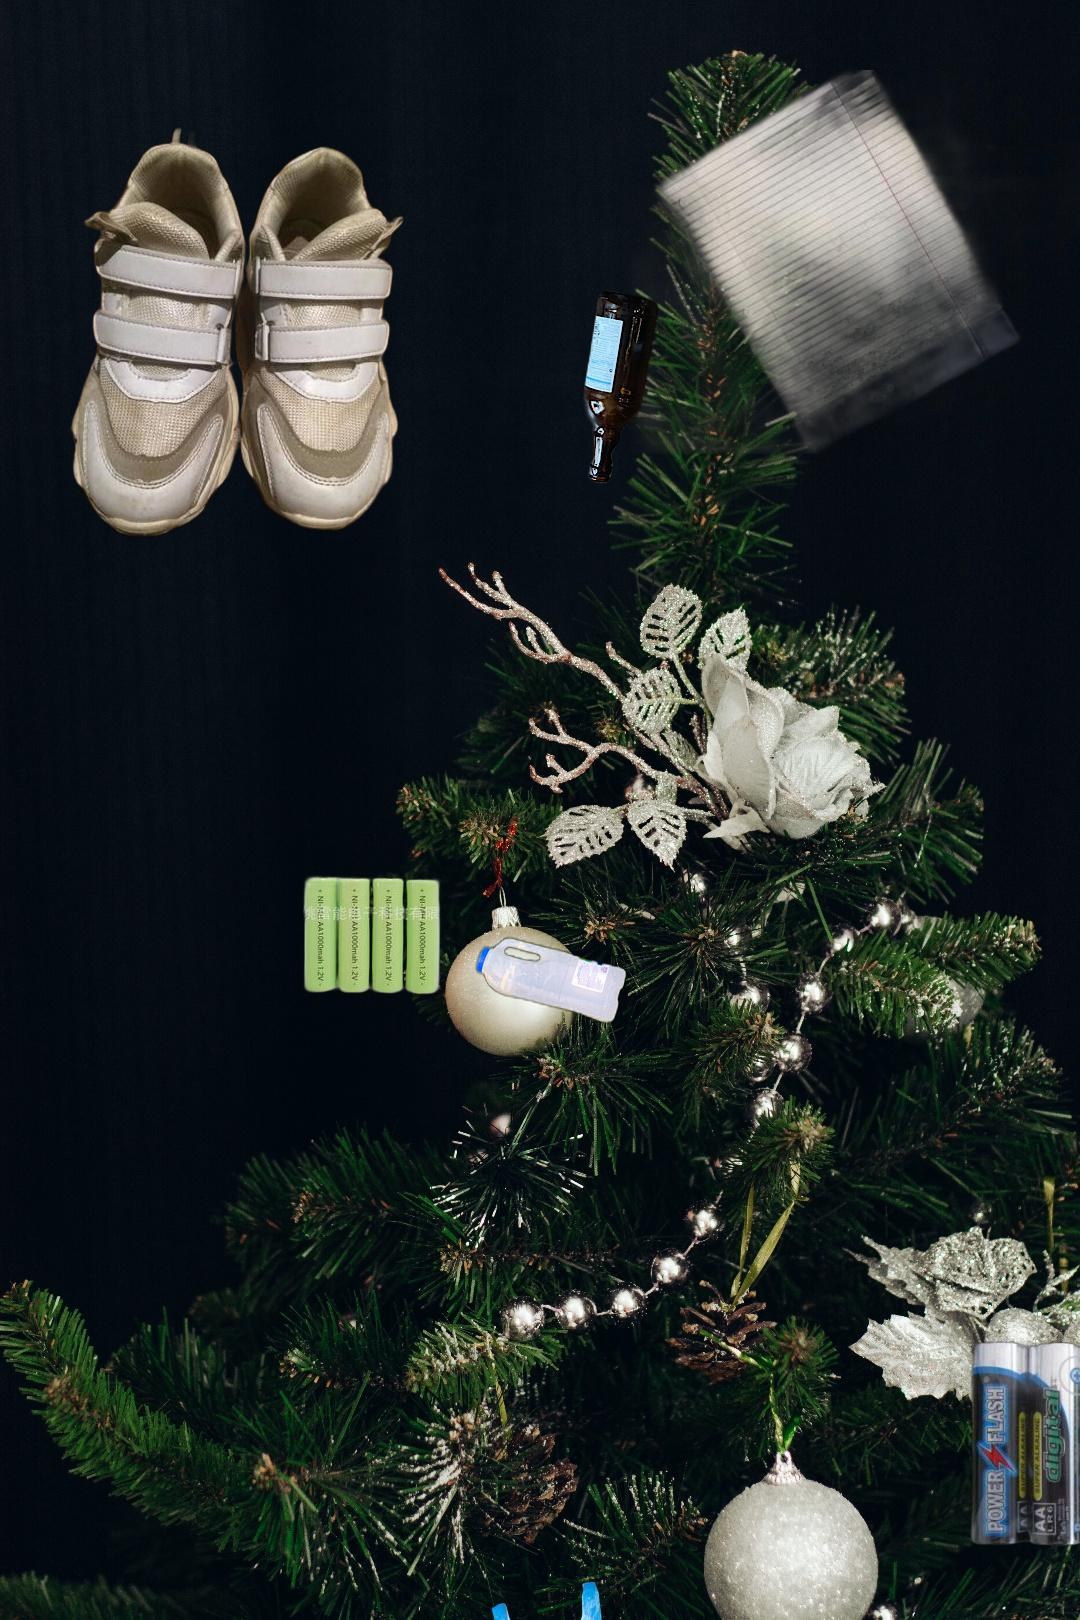battery: (283, 861, 445, 1015), (965, 1337, 1080, 1550)
glass: (579, 284, 663, 491)
paper: (620, 70, 1080, 454)
plastic-bag: (482, 1540, 630, 1620)
plastic-bottles: (472, 931, 630, 1029)
shoes: (66, 123, 407, 545)
